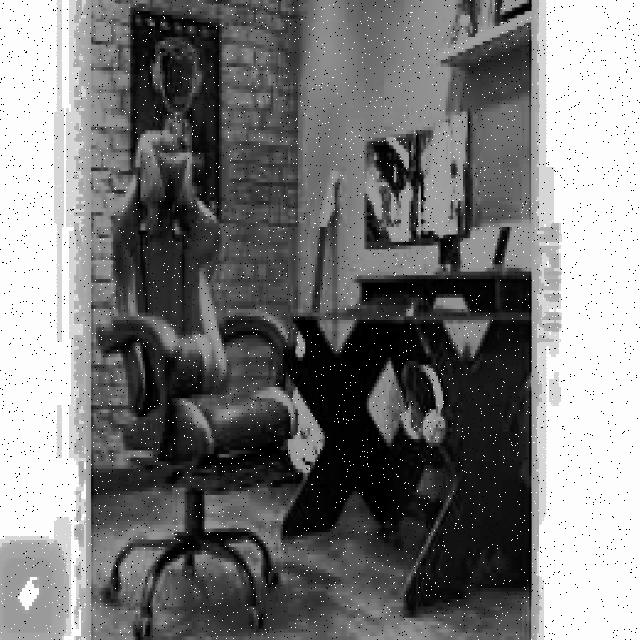book: (95, 126, 300, 640)
table: (267, 230, 542, 617)
